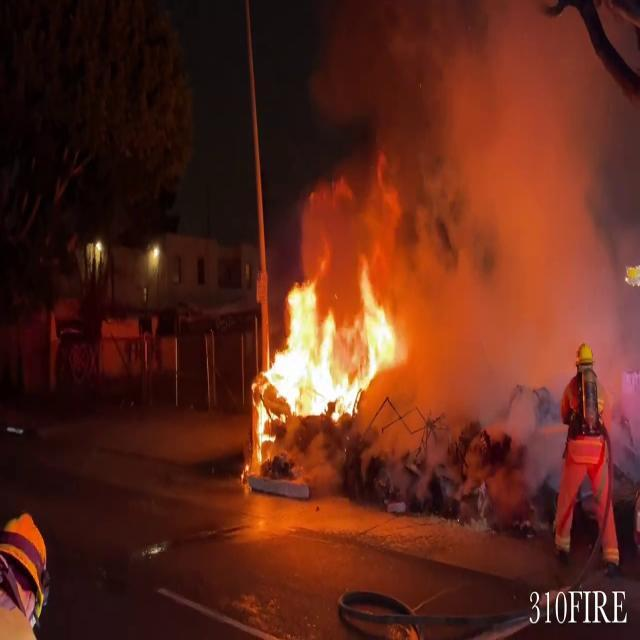Fire: (250, 235, 417, 467)
Smoke: (342, 0, 638, 428)
